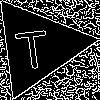T: (12, 21, 51, 70)
